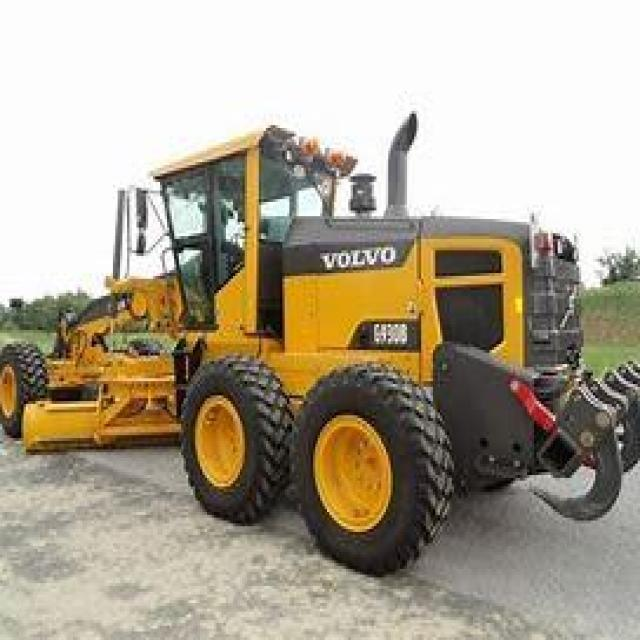Grader: (0, 88, 626, 580)
